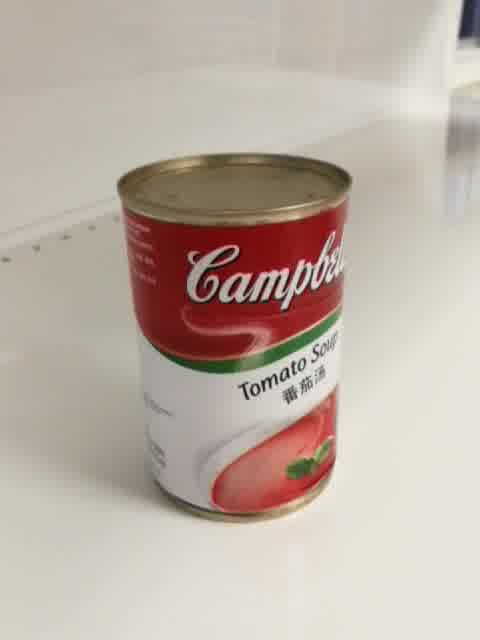tomatosoup: (114, 151, 356, 526)
